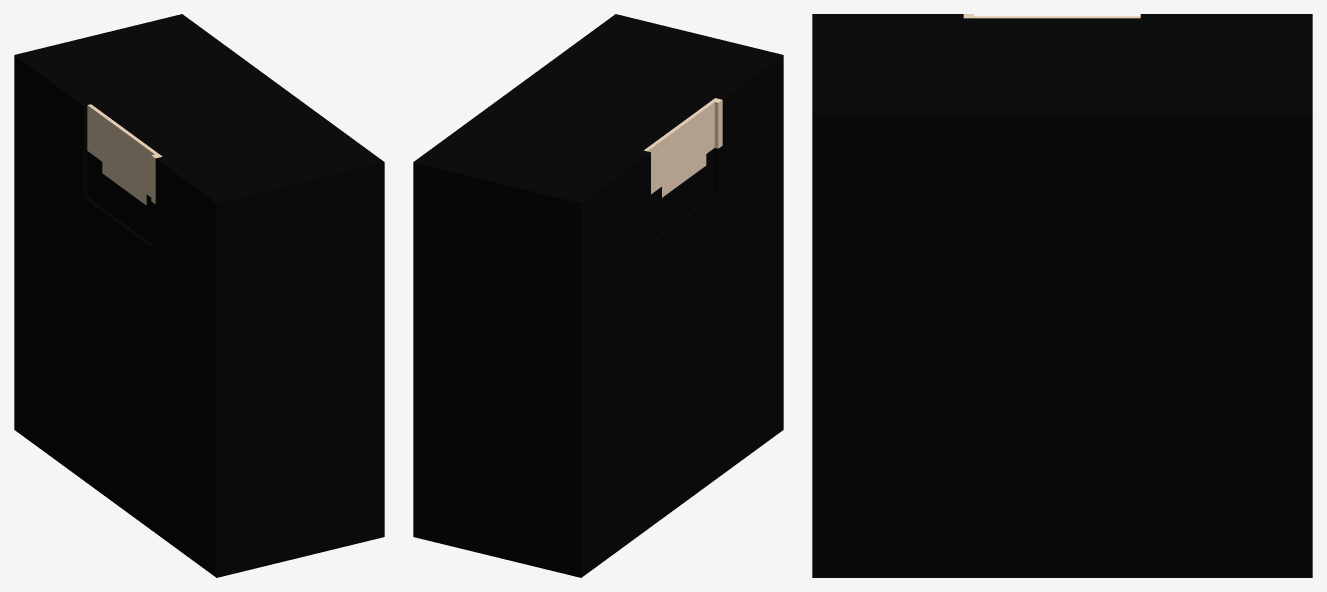
The model's file is evilnoob-0.obj.
3 renders of one model, left to right at view 1: azimuth 30°, elevation 25°; view 2: azimuth 150°, elevation 25°; view 3: azimuth 270°, elevation 25°, orthographic. The views are drawn at different scales.
Size of the model in its own units: 4.6 by 9.8 by 9.6.
Materials: 1 (1 with a texture image).
